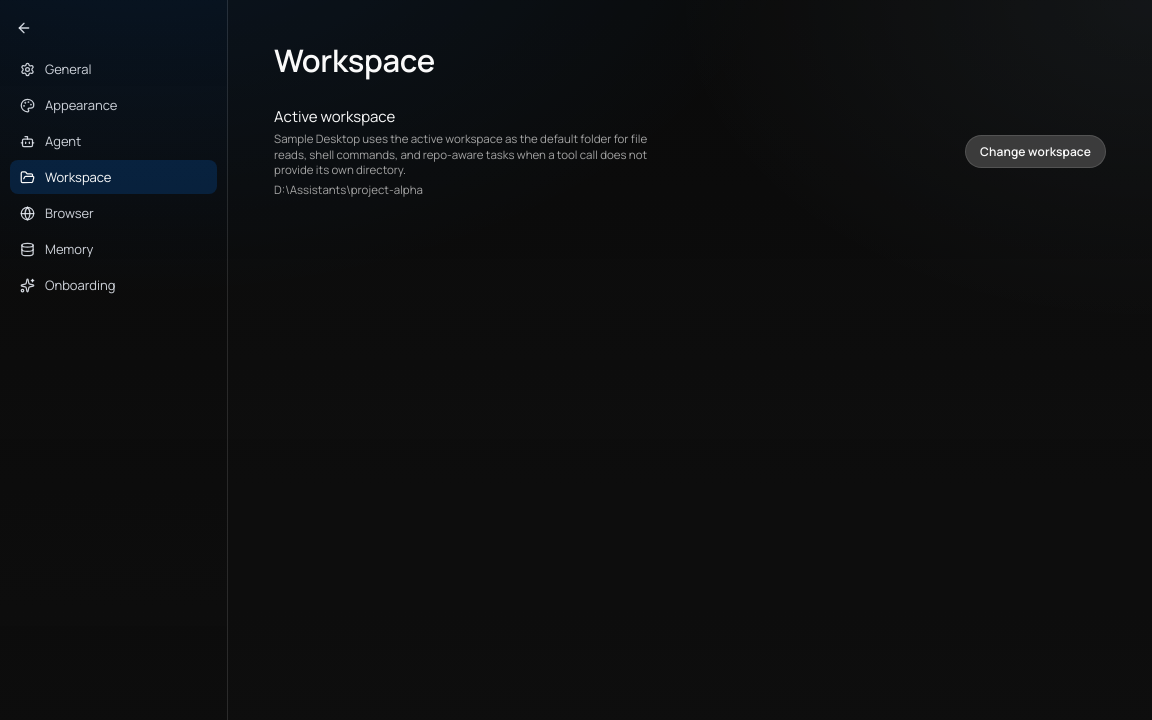
Test case: SettingsSection › workspace tab shows the active workspace and can change it
Expected: the text "D:\\Assistants\\project-alpha" is shown, [274,182,423,197]
Click the button "Change workspace": [1035, 151] box [965,135,1106,168]
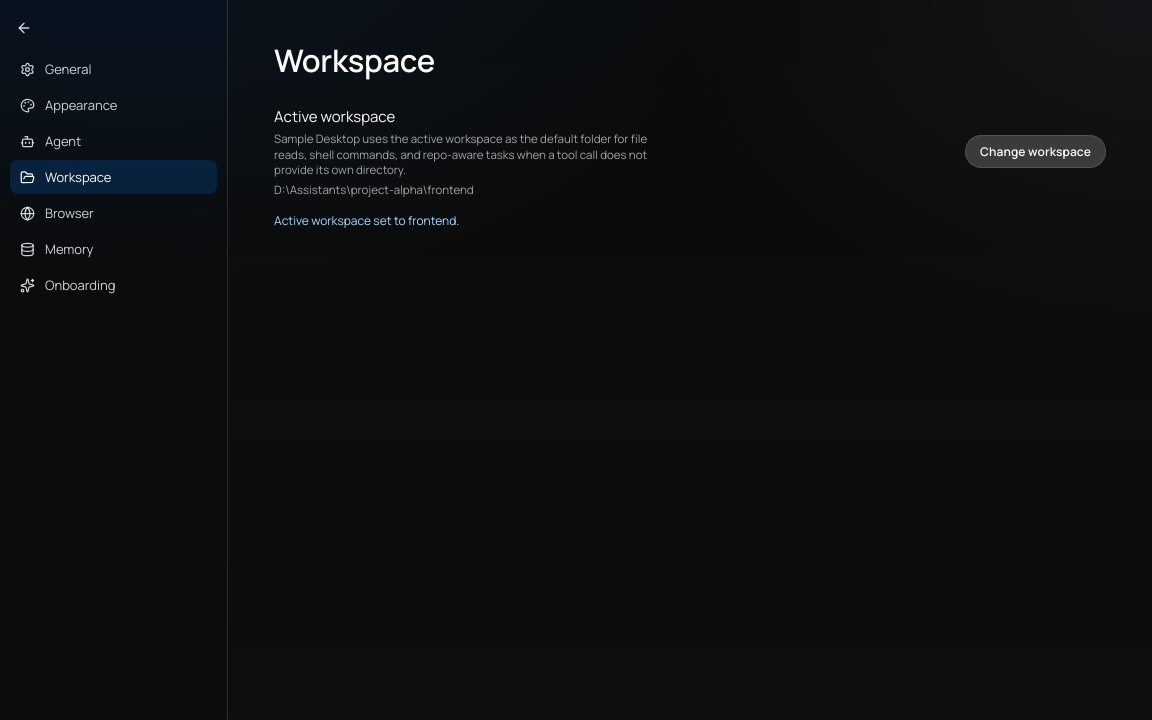
Now the text "Active workspace set to frontend." is shown, box [274,212,459,229]
Now the text "D:\\Assistants\\project-alpha\\frontend" is shown, box [274,182,474,197]
